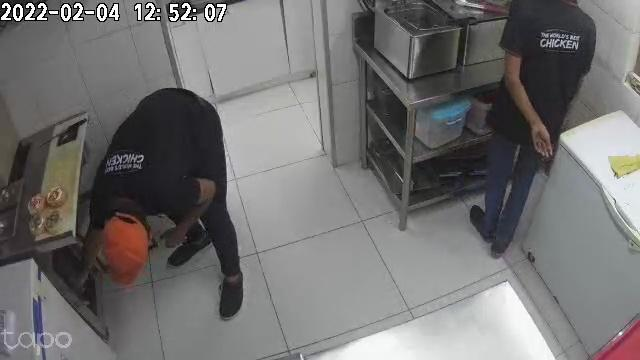no_gloves: (529, 113, 553, 156)
